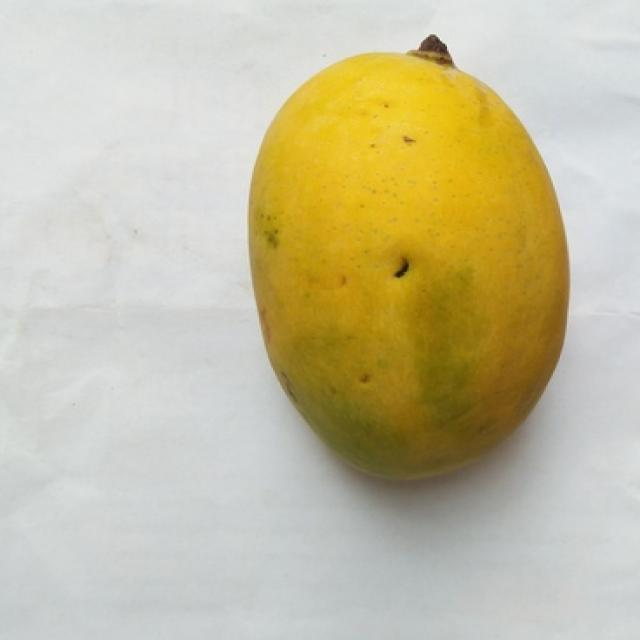Mango: (249, 37, 567, 478)
